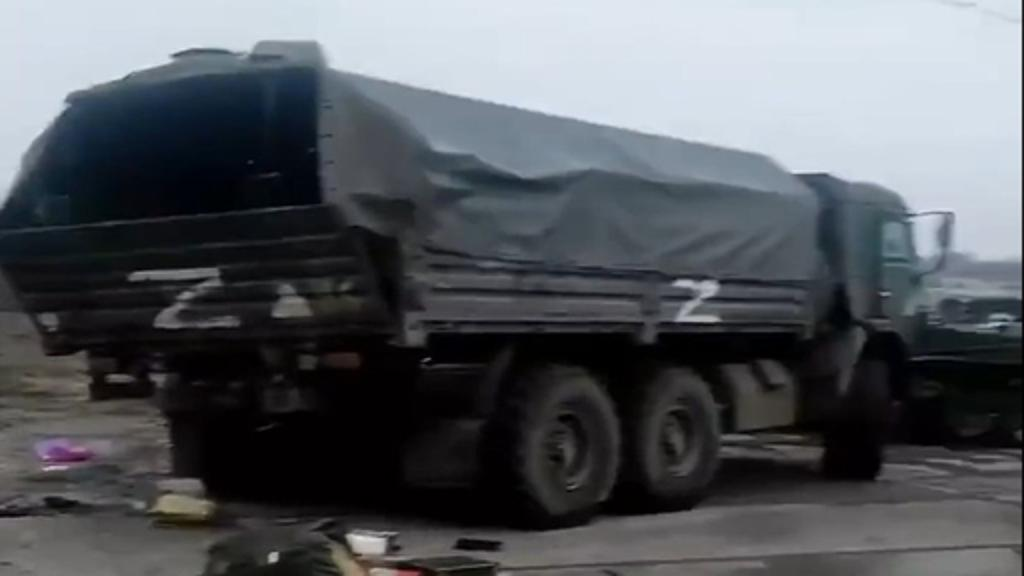TRUCK: (0, 48, 922, 522)
